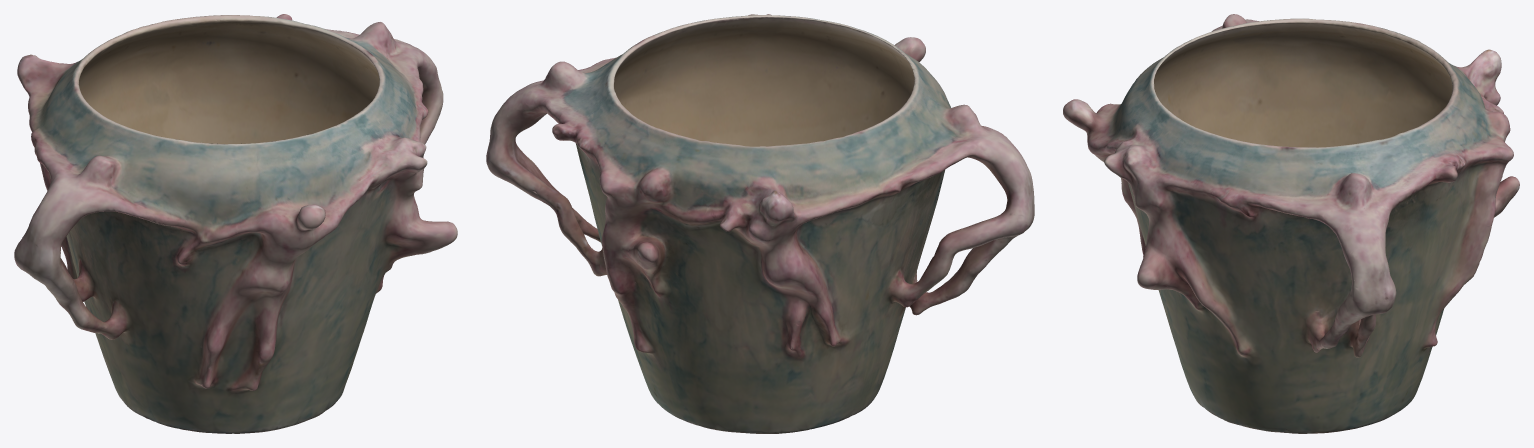
File: 异形圣杯.glb
3 views of the same model, side by side, from view 1: azimuth 30°, elevation 25°; view 2: azimuth 150°, elevation 25°; view 3: azimuth 270°, elevation 25° (orthographic).
Visible parts, largest first — view 1: Object_3; view 2: Object_3; view 3: Object_3.
Boxes of the visible parts, x1=… form: Object_3: x1=14, y1=14, x2=457, y2=433; Object_3: x1=486, y1=14, x2=1034, y2=433; Object_3: x1=1063, y1=14, x2=1519, y2=433.
Bounding box in the file's own units: 393 × 241 × 327.
Materials: 1 (1 with a texture image).
